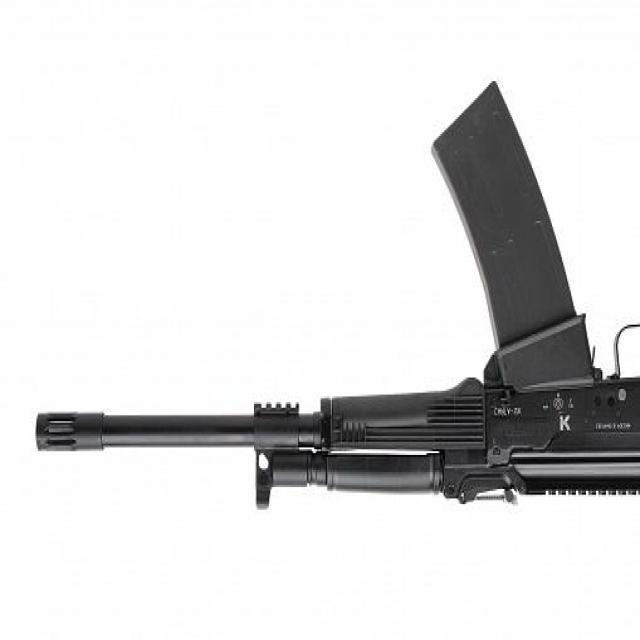weapon: (36, 80, 640, 510)
